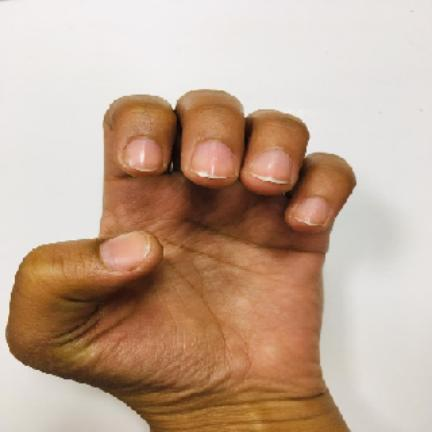Nail: (100, 231, 150, 270), (191, 141, 236, 179), (251, 148, 292, 184), (125, 138, 163, 172), (290, 197, 330, 226)
